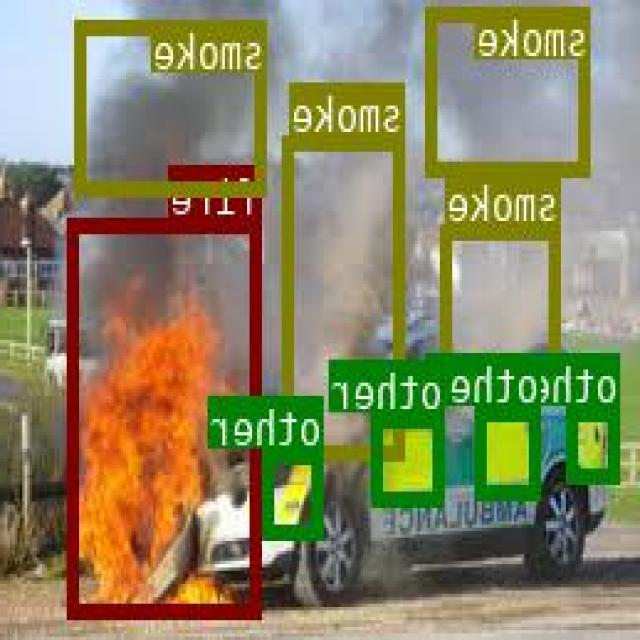fire: (70, 216, 264, 616)
other: (374, 409, 446, 505), (479, 403, 542, 495), (267, 446, 325, 536), (570, 404, 620, 480)
smoke: (285, 134, 407, 455), (77, 18, 268, 194), (428, 5, 591, 174), (443, 223, 561, 380)
